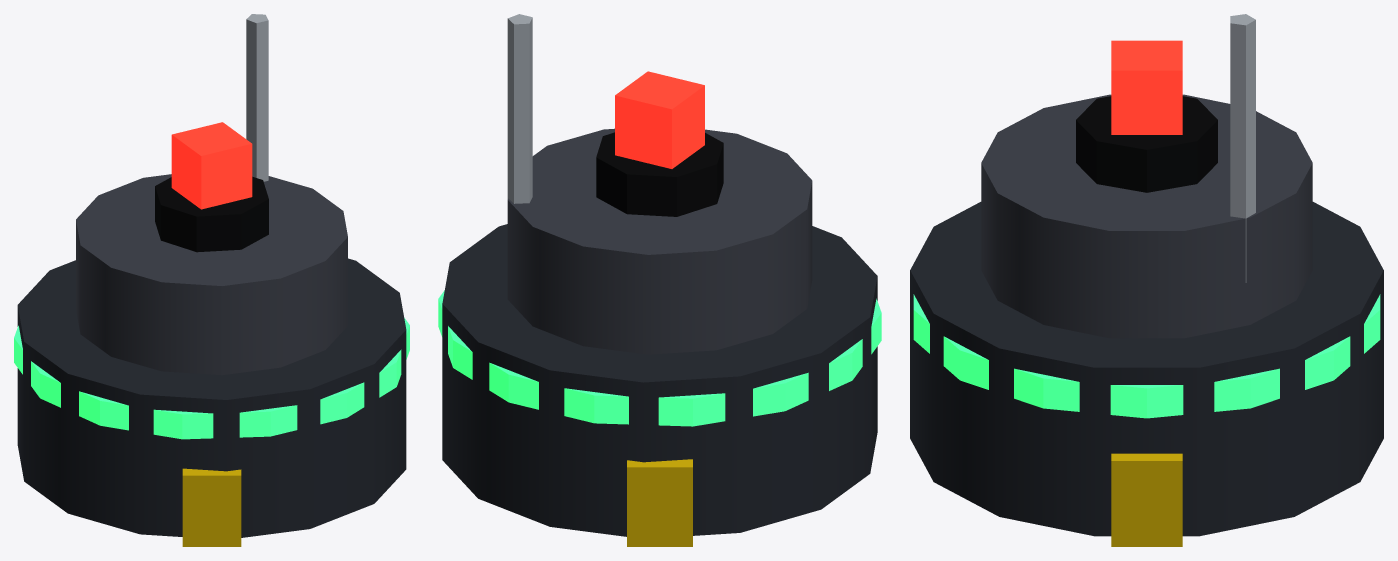
File: emp_charge.glb
The picture shows the model from 3 angles, left to right: view 1: azimuth 30°, elevation 25°; view 2: azimuth 150°, elevation 25°; view 3: azimuth 270°, elevation 25°; orthographic projection. The views are drawn at different scales.
Visible parts, largest first — view 1: emp_charge; view 2: emp_charge; view 3: emp_charge.
Part boxes in pixels (x1,y1,x2,y2): emp_charge: (14,14,409,546); emp_charge: (438,14,881,546); emp_charge: (910,14,1383,546).
Bounding box in the file's own units: 0.206 × 0.22 × 0.2.
